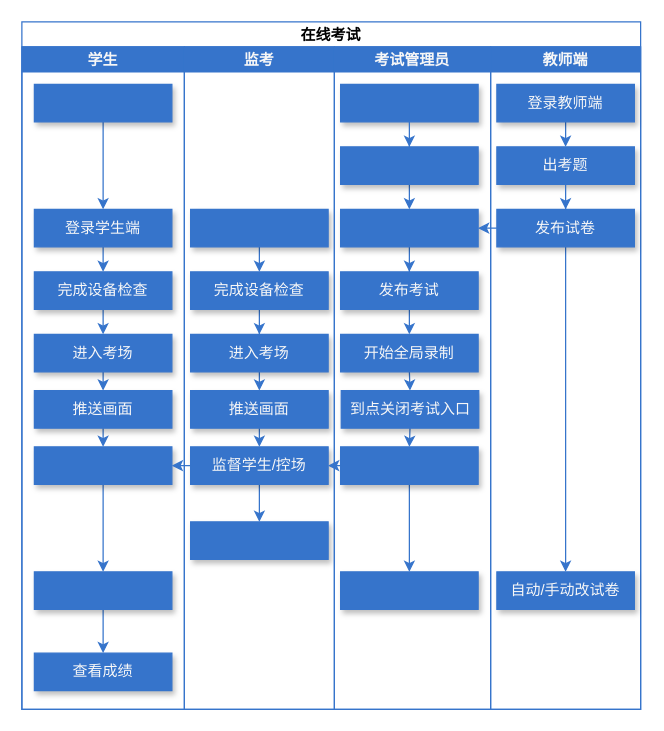
Some shapes in this 664 by 731 pixel diagram are drawn without their labels. Here are the shapes that lost their labels. From the top down, the centre of each, then its label:
(x=103, y=104): 考前复习
(x=410, y=104): 安排考试
(x=410, y=167): 添加参考人员
(x=260, y=229): 登录监考端
(x=410, y=229): 添加对应试卷
(x=103, y=467): 完成考试
(x=410, y=467): 监督监考老师
(x=260, y=542): 踢出舞弊学生
(x=103, y=592): 提交试卷
(x=410, y=592): 复盘回放
